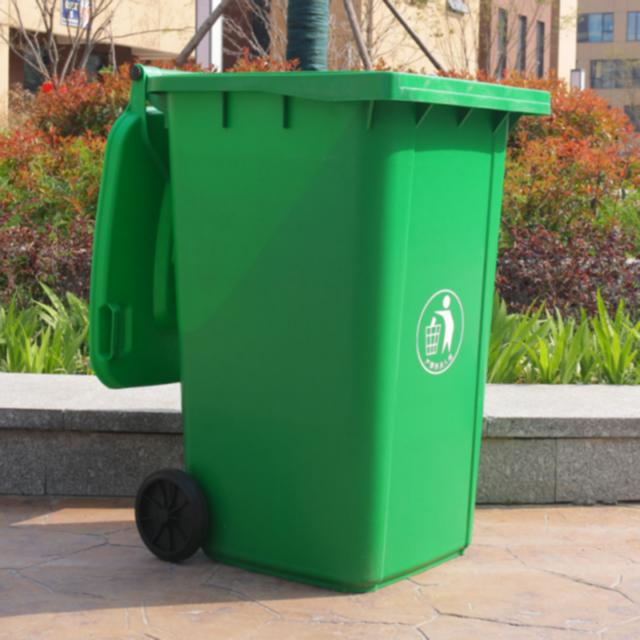ash bin: (84, 56, 552, 590)
